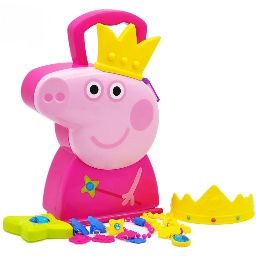Peppa: (34, 68, 163, 220)
